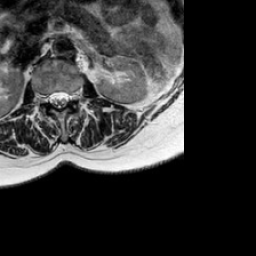CCS_normal: (55, 82, 62, 117)
LFS_normal: (69, 84, 77, 107)
LLS_normal: (62, 82, 69, 113)
RFS_normal: (39, 83, 48, 111)
RLS_normal: (48, 84, 55, 113)
